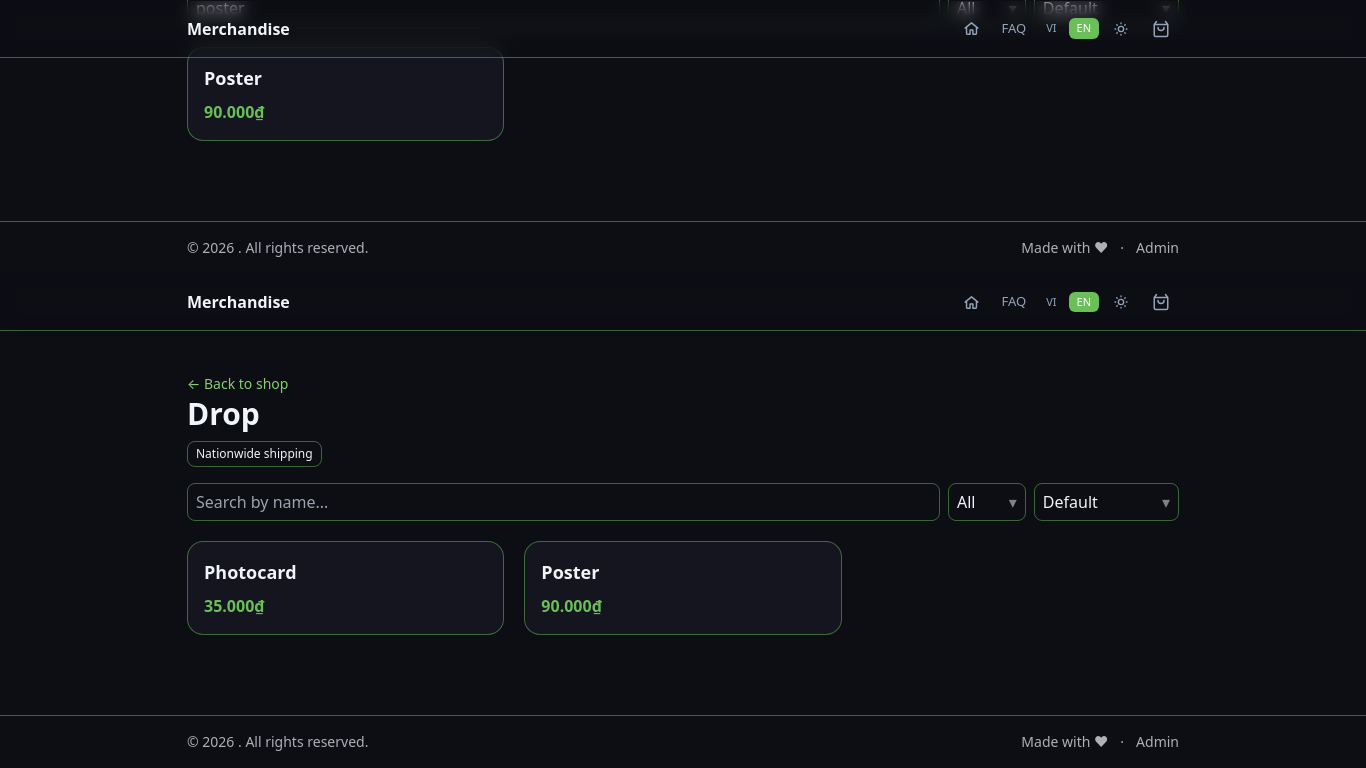
it: Collection - search, filter, sort › filters by stock status
(page scrolled)
Click the button with aria-label "All". click: (987, 502)
box: [948,482,1026,520]
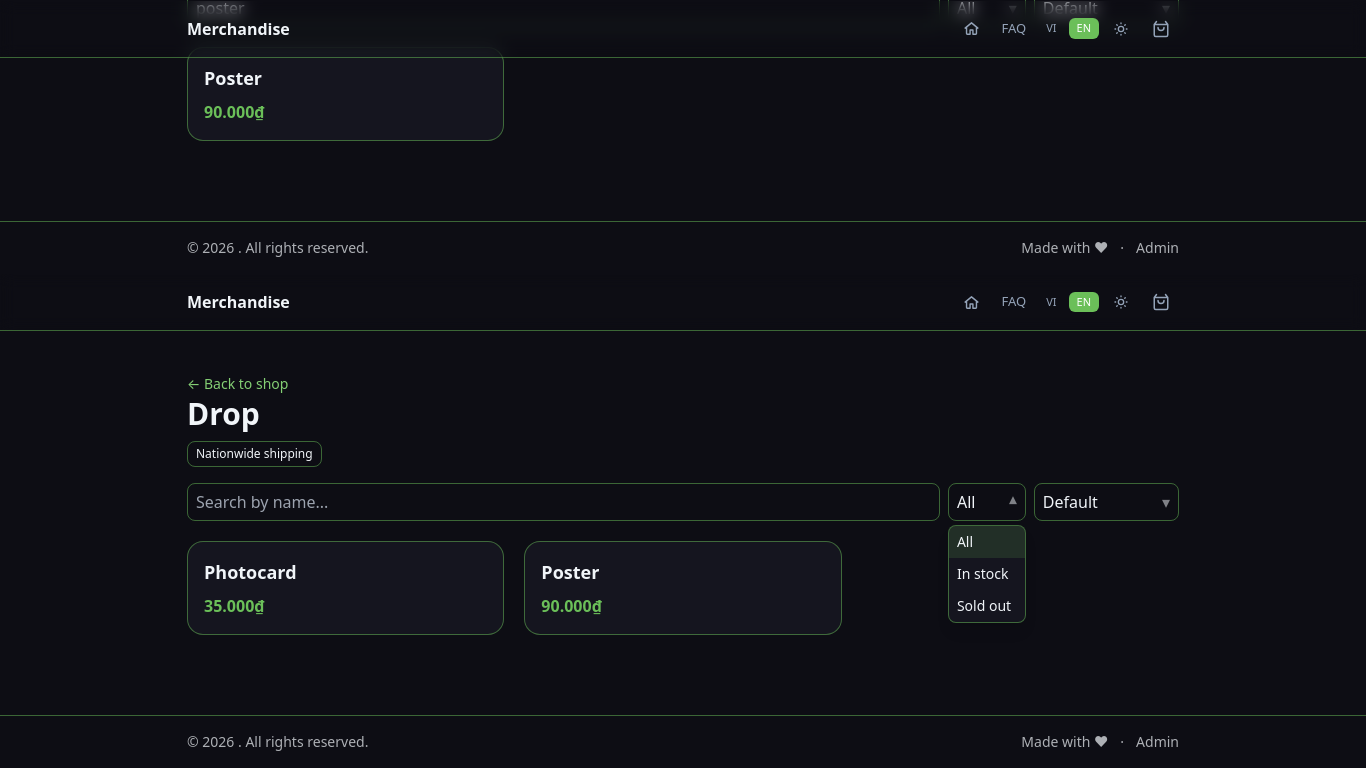
Click the button "Sold out". click: (987, 606)
box: [949,590,1025,622]
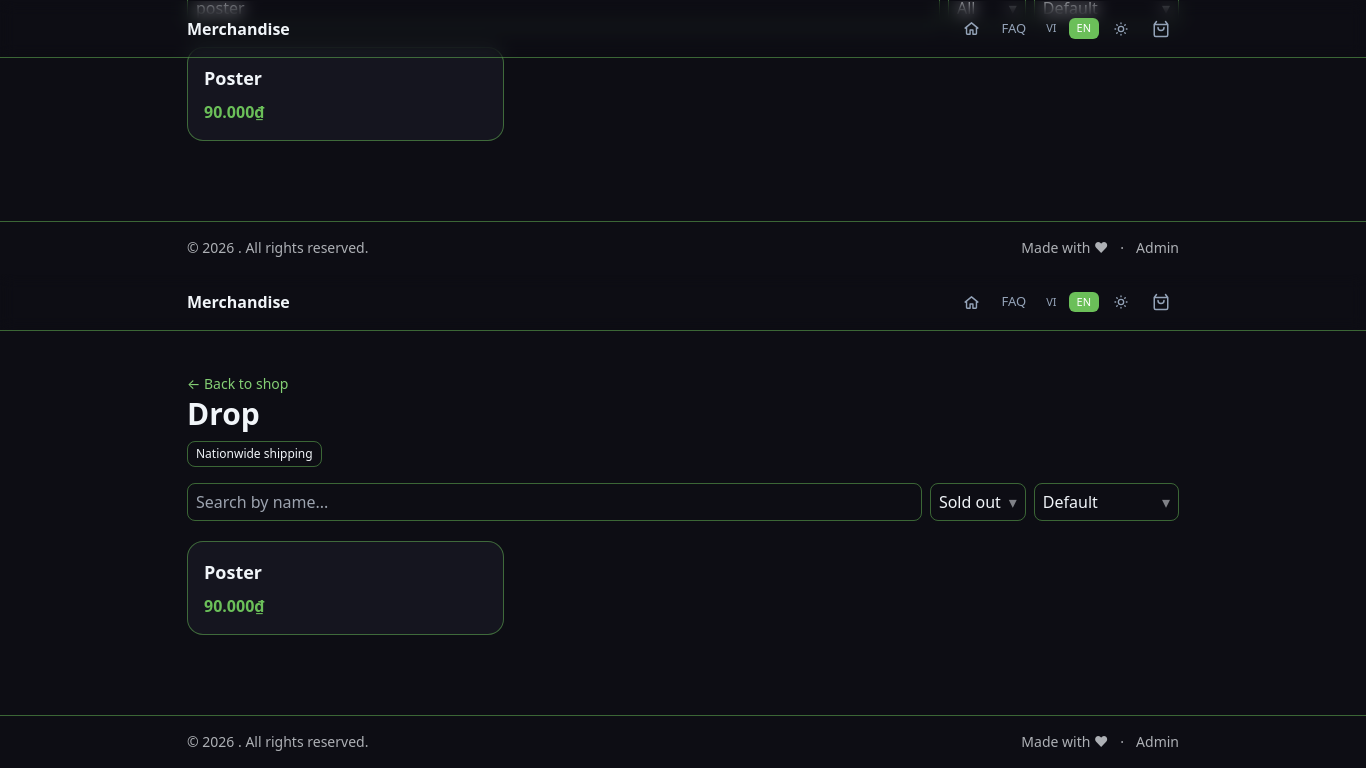
Expected: the text "Poster" is shown, [204,64,262,92]
Now the text "Photocard" is gone
